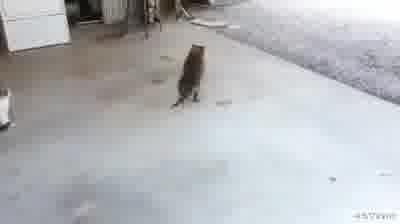raccoon: (166, 43, 207, 111)
